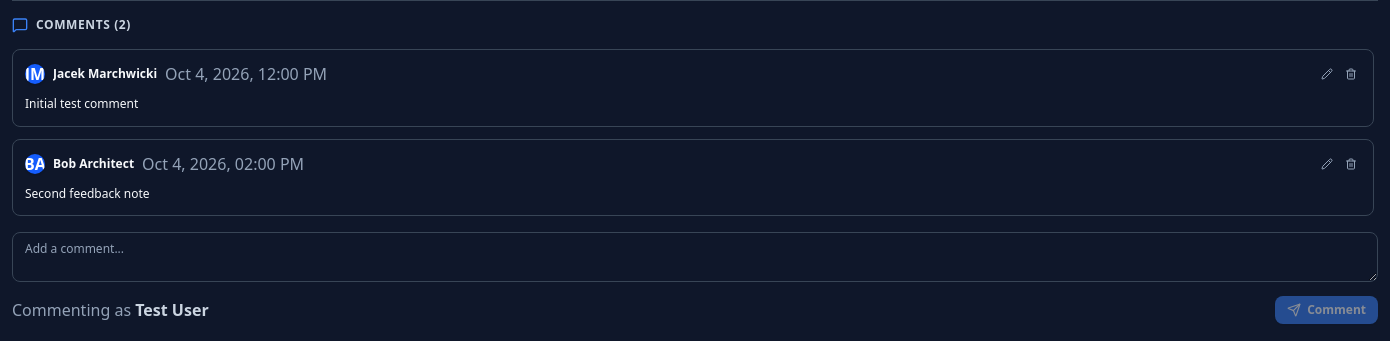
CommentsSection component › deletes a comment after confirmation
The width and height of the screenshot is (1390, 341).
Click the button named "Delete comment c-1" at (1351, 74), box [1341,64,1361,84]
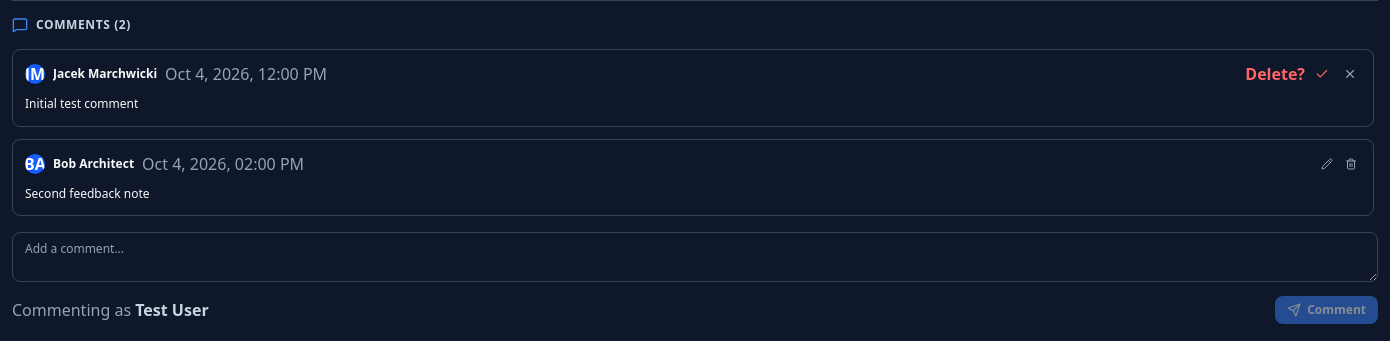
Result: the text "Delete?" is shown at [1245,62,1305,86]
Click the button named "Confirm delete comment c-1" at (1322, 74), box [1311,63,1333,85]
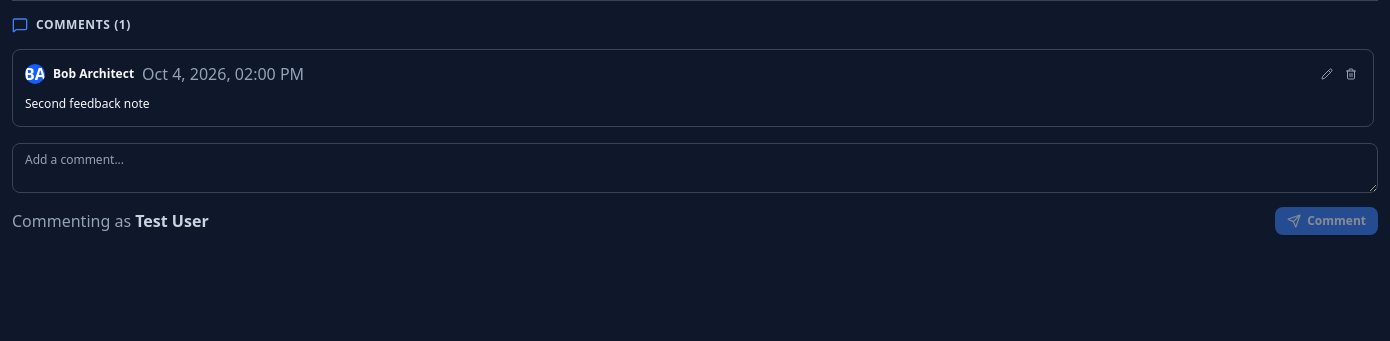
Result: the text "Initial test comment" is gone
Result: the text "Comments (1)" is shown at [36,17,131,33]
